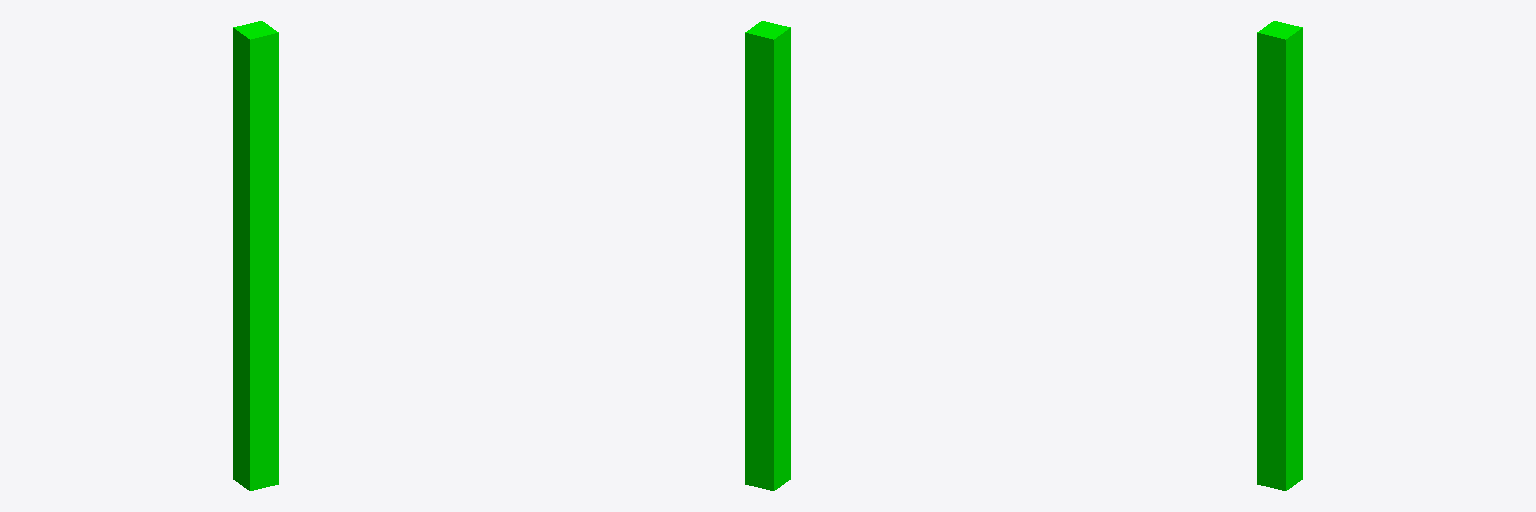
The robot description file, URDF, robot "tree_one":
<?xml version="1.0" ?>
<robot name="tree_one">
    <link name="block">
    <inertial>
      <origin xyz="0 0 0" rpy="0 0 0"/>
      <mass value="0.0"/>
      <inertia ixx="1" ixy="0" ixz="0" iyy="1" iyz="0" izz="1"/>
    </inertial>
    <!-- Visual representation of the cube (0.3m x 0.3m x 0.3m) -->
    <visual>
      <origin xyz="0 0 0" rpy="0 0 0"/>
      <geometry>
        <box size="0.4 0.4 6.0"/>
      </geometry>
      <material name="green">
        <color rgba="0 1 0 1"/>
      </material>
    </visual>
    <!-- Collision representation of the cube (0.3m x 0.3m x 0.3m) -->
    <collision>
      <origin xyz="0 0 0" rpy="0 0 0"/>
      <geometry>
        <box size="0.4 0.4 6.0"/>
      </geometry>
    </collision>    
    <!-- Contact properties (optional, e.g., friction) --> 
    <contact>
      <lateral_friction value="1.0"/>
      <rolling_friction value="0.0"/>
      <restitution value="0.0"/>
    </contact>
  </link>
</robot>  

--- Render facts (derived) ---
3 views of the same robot in one strip: view 1: azimuth 30°, elevation 25°; view 2: azimuth 150°, elevation 25°; view 3: azimuth 330°, elevation 25° (orthographic).
Robot: tree_one — 1 links, 0 joints (none); root link block; default pose: all joints at 0.
Visible links, largest first — view 1: block; view 2: block; view 3: block.
Link boxes in pixels (left/top/right/bottom): block: left=233, top=21, right=278, bottom=490; block: left=745, top=21, right=790, bottom=490; block: left=1257, top=21, right=1302, bottom=490.
Bounding box of the posed robot: 0.4 × 0.4 × 6 m (x, y, z).
Geometry: primitives only (box / cylinder / sphere), no mesh files.